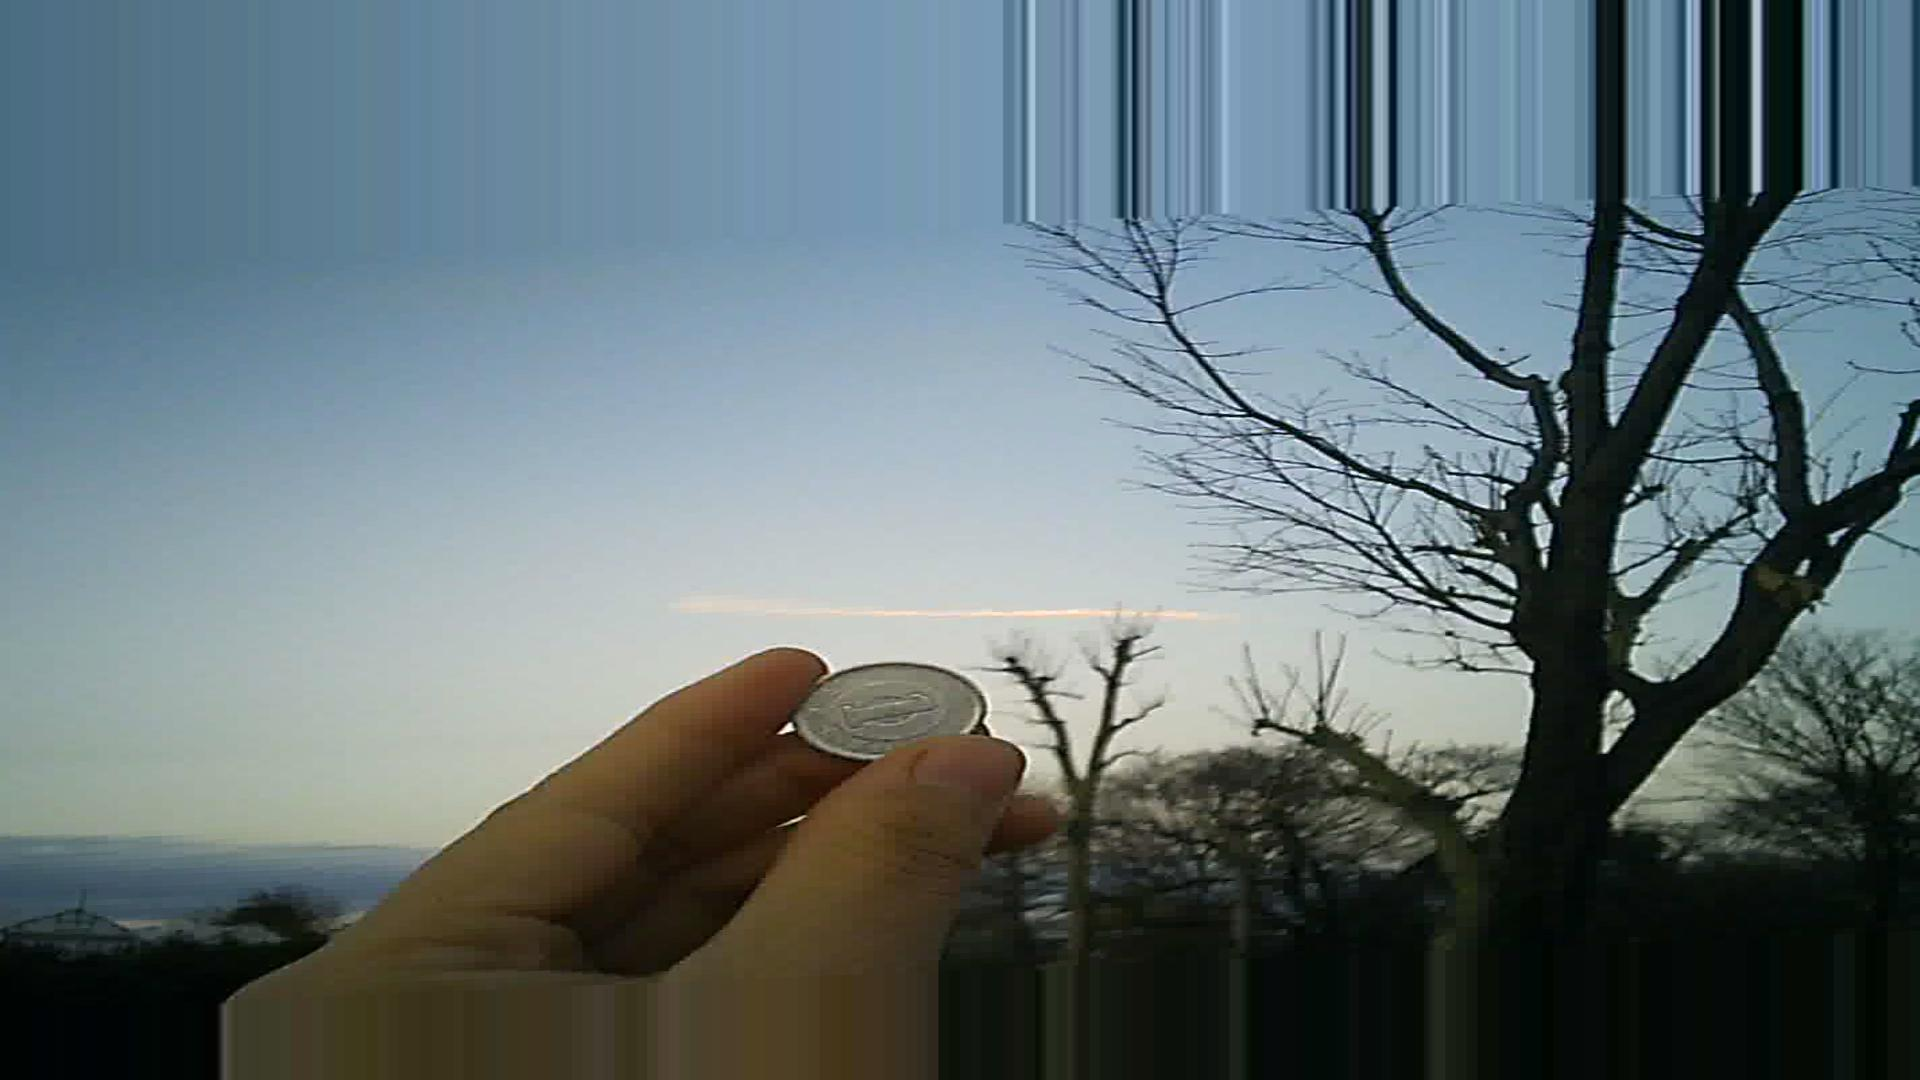1 Yen: (787, 647, 982, 770)
